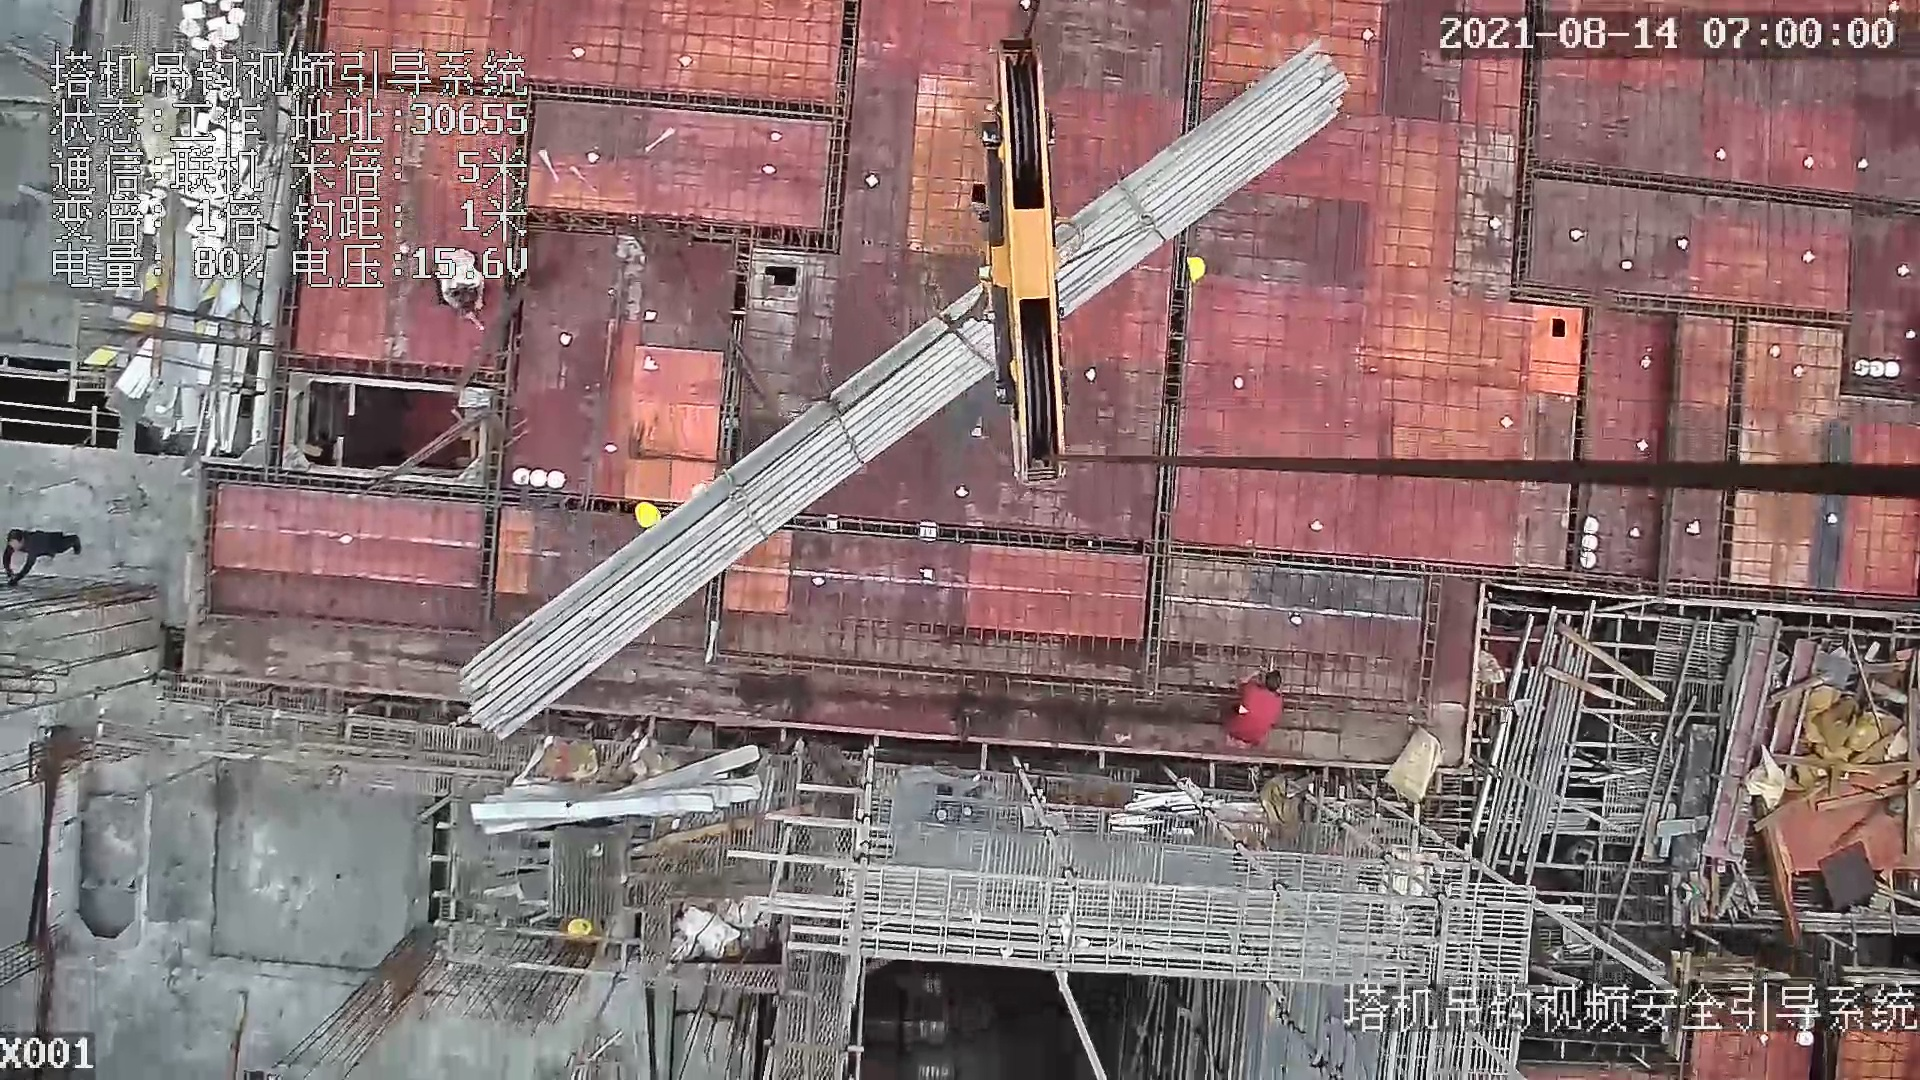helmet: (636, 502, 662, 529), (1184, 256, 1206, 285), (567, 919, 591, 934)
hook: (963, 33, 1086, 489)
person: (427, 247, 490, 335), (4, 529, 81, 585), (1228, 668, 1282, 747)
rebar: (455, 41, 1351, 742)
